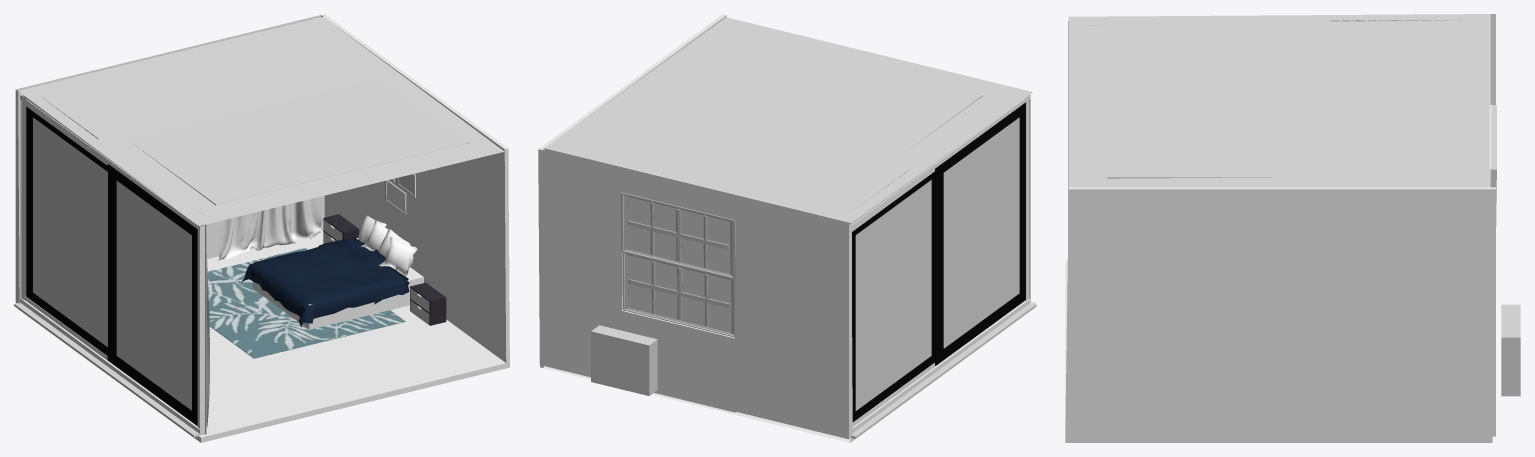
The model's file is bedroom.glb.
The picture shows the model from 3 angles, left to right: view 1: azimuth 30°, elevation 25°; view 2: azimuth 150°, elevation 25°; view 3: azimuth 270°, elevation 25°; orthographic projection. The views are drawn at different scales.
Visible parts, largest first — view 1: Cube, Cube.006, Window.L, Window.R, Plane, carpet, WindowFrame, curt.002, Windows_Sill, Cube.001, Cube.008, Plane.002 (+2 smaller); view 2: Cube, Cube.006, Window.L, Window.R, Cube.005, Cube.004, WindowFrame, CTRL_Hole, Windows_Sill; view 3: Cube, Cube.006, CTRL_Hole, WindowFrame, Cube.005.
Part boxes in pixels (x1,y1,x2,y2): Cube: [15, 14, 509, 442]; Cube.006: [126, 77, 468, 205]; Window.L: [107, 164, 197, 425]; Window.R: [26, 107, 107, 355]; Plane: [241, 237, 409, 326]; carpet: [207, 248, 405, 358]; WindowFrame: [20, 94, 206, 434]; curt.002: [217, 196, 322, 260]; Windows_Sill: [14, 302, 204, 437]; Cube.001: [252, 281, 409, 329]; Cube.008: [410, 282, 446, 325]; Plane.002: [379, 237, 417, 276]; Cube: [538, 14, 1034, 442]; Cube.006: [640, 33, 983, 160]; Window.L: [934, 102, 1025, 365]; Window.R: [852, 172, 934, 422]; Cube.005: [620, 192, 735, 279]; Cube.004: [622, 252, 734, 337]; WindowFrame: [851, 94, 1030, 432]; CTRL_Hole: [591, 325, 657, 395]; Windows_Sill: [851, 303, 1036, 438]; Cube: [1065, 14, 1495, 442]; Cube.006: [1107, 34, 1315, 178]; CTRL_Hole: [1501, 304, 1520, 396]; WindowFrame: [1068, 20, 1493, 227]; Cube.005: [1491, 105, 1496, 225].
Size of the model in its own units: 7.03 by 4.88 by 7.61.
25 materials, 3 textured.
